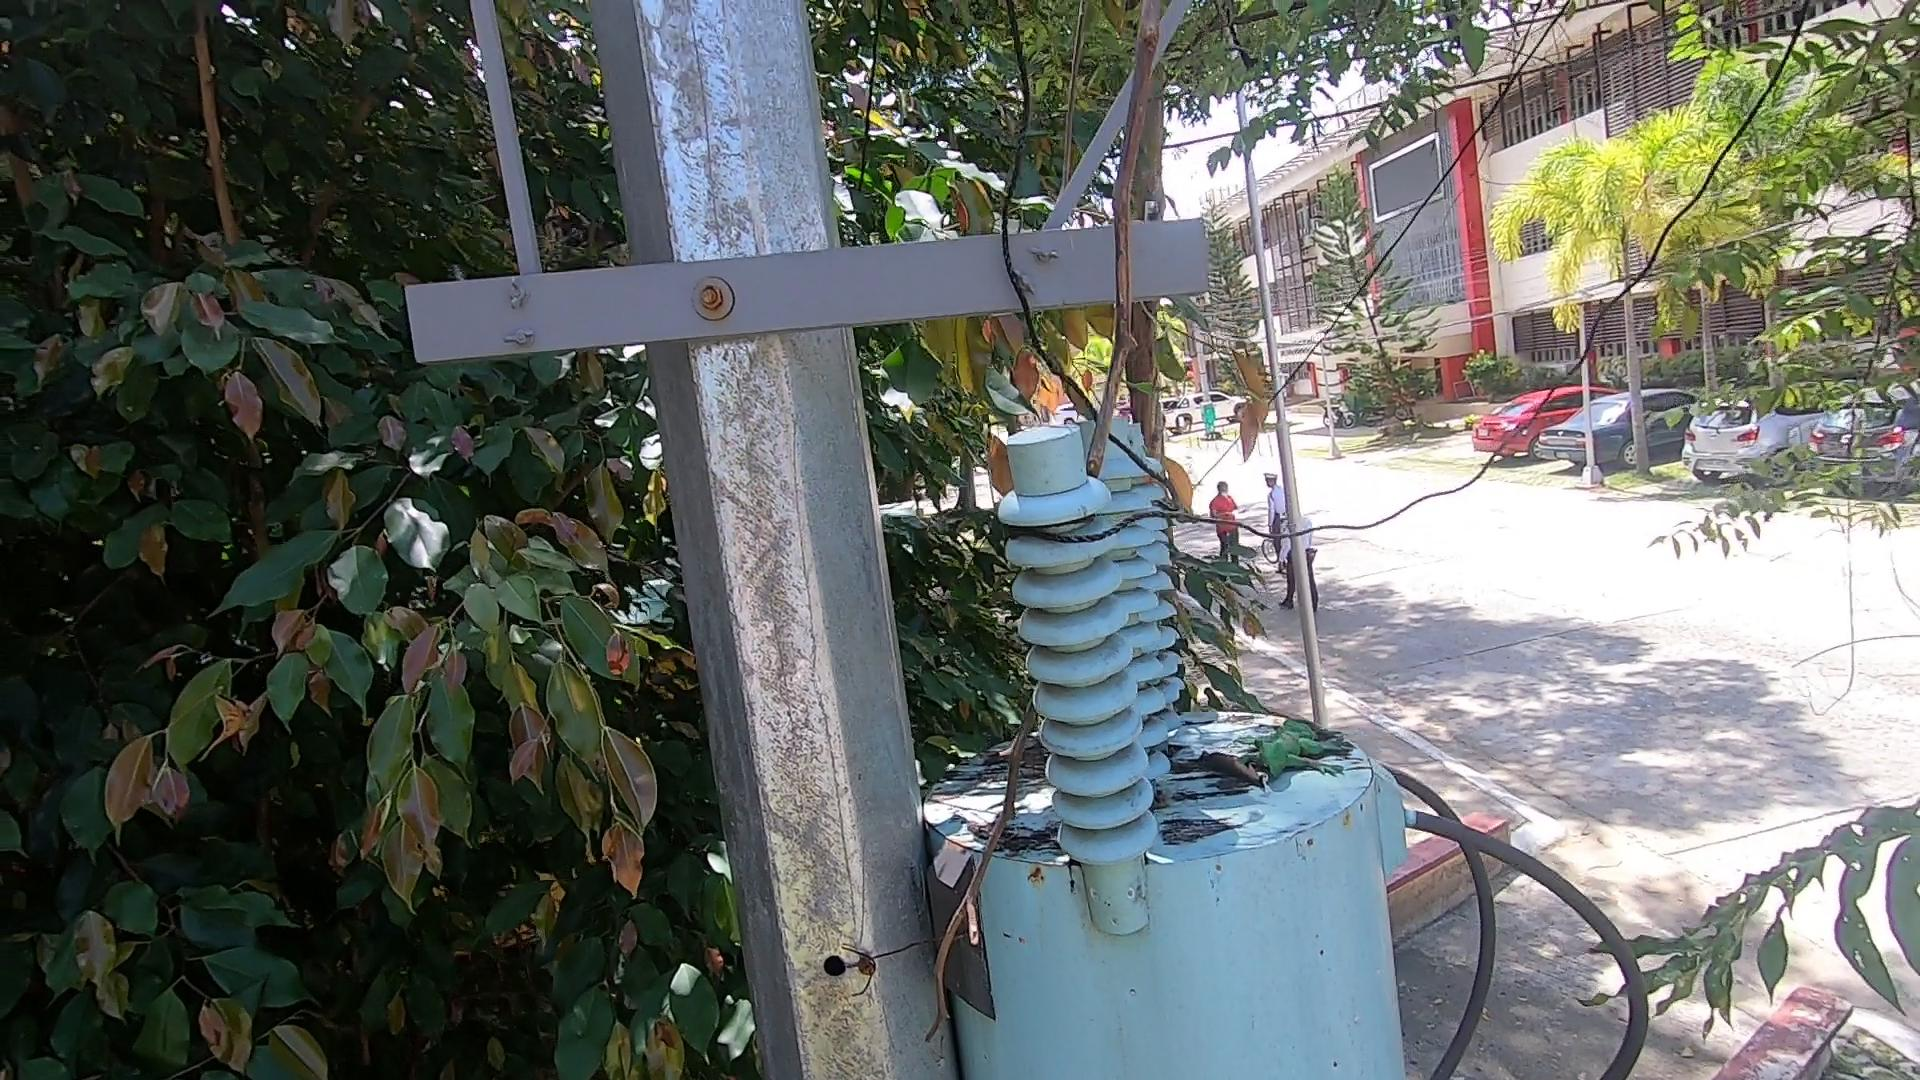leaf: (942, 804, 1042, 860), (1158, 454, 1218, 525), (1185, 746, 1265, 796), (994, 735, 1044, 769)
tree branch: (869, 3, 1199, 1054)
